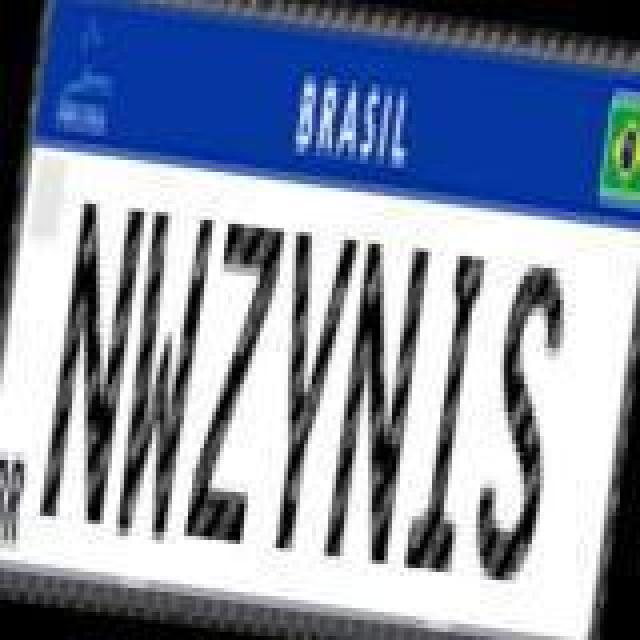I: (400, 246, 496, 578)
N: (320, 232, 432, 568), (36, 194, 148, 526)
S: (464, 256, 576, 592)
W: (104, 204, 216, 548)
Y: (248, 226, 360, 558)
Z: (180, 218, 284, 550)
